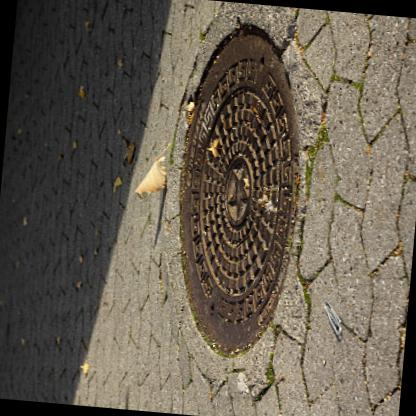manholes: (137, 1, 326, 376)
